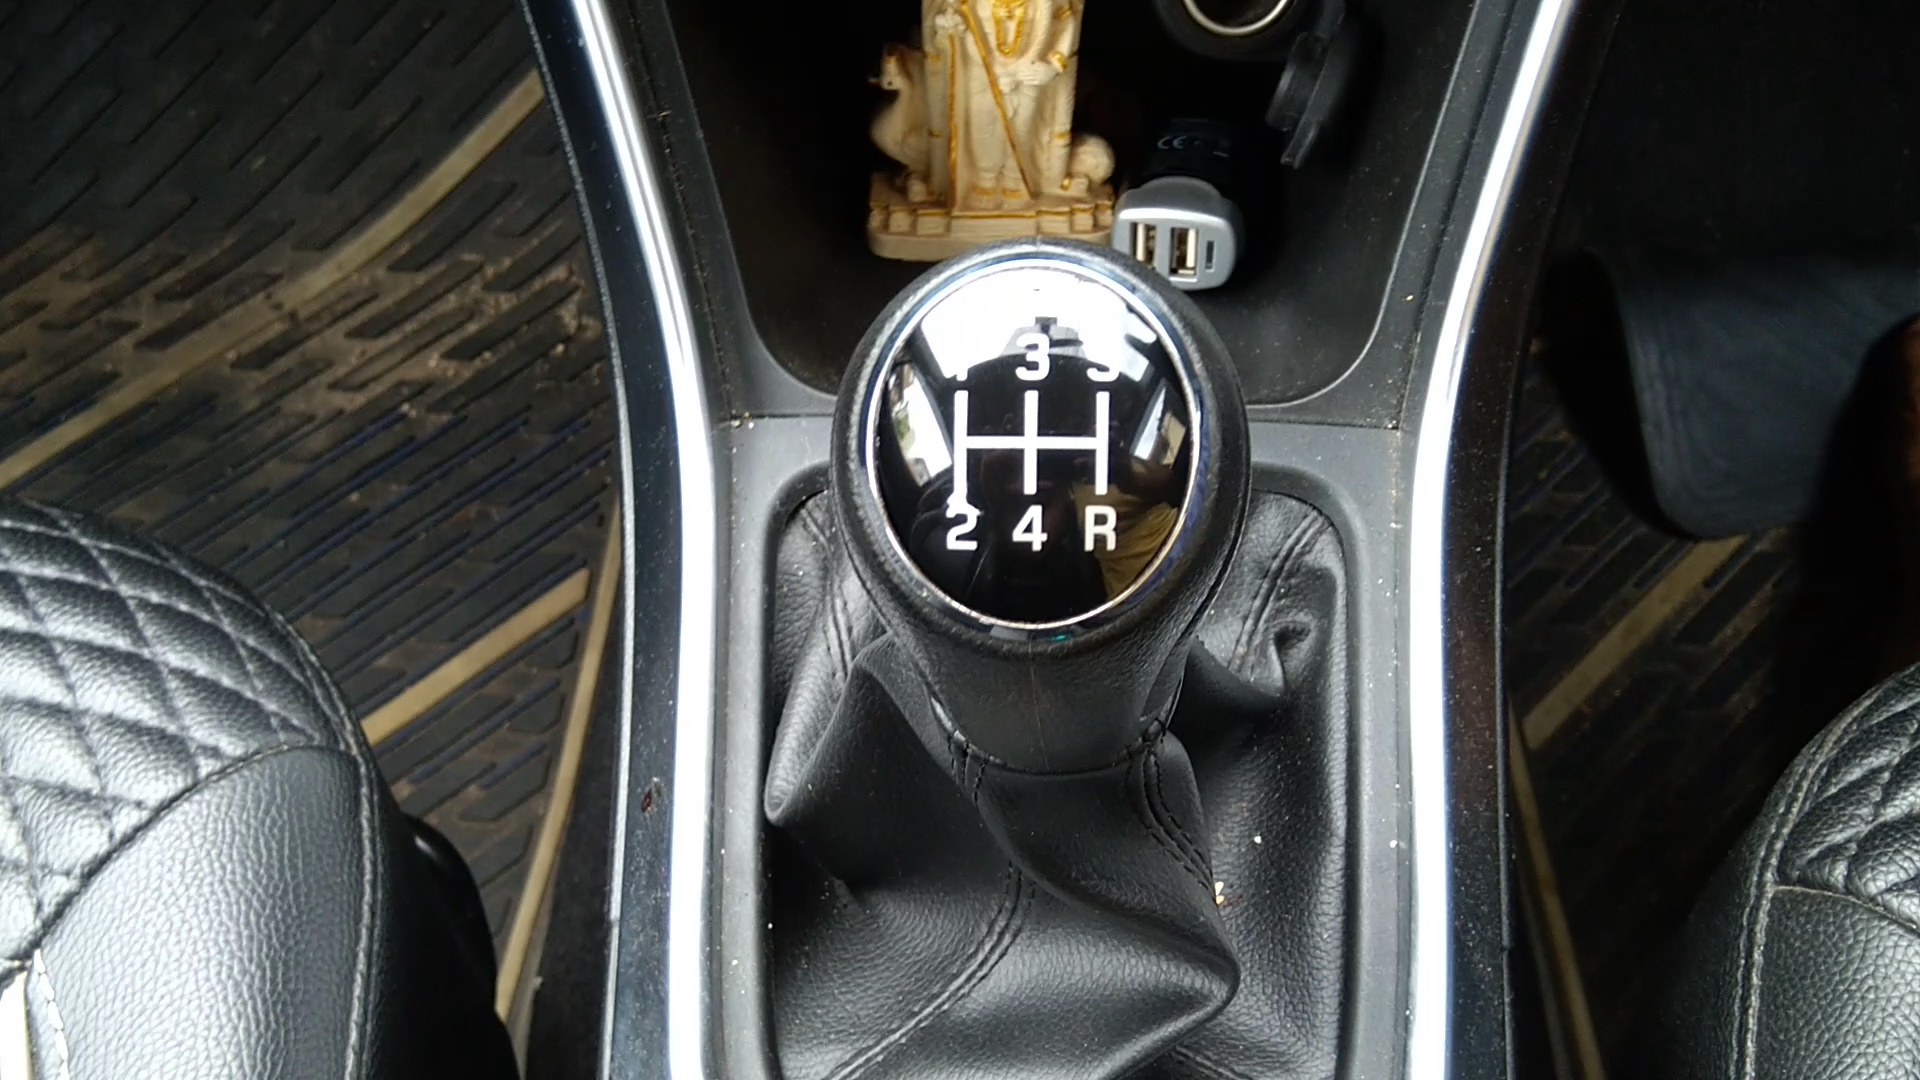manual_gear: (819, 240, 1286, 922)
